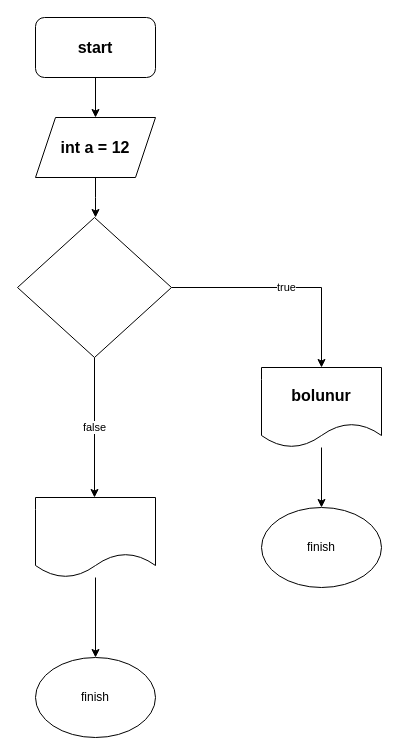
Image size: 399x755. Some labels were removed from this diagram. The shapes that lost their labels are listed below. From the top down, each one's centre as x and y in pixels, then its label:
At (x=94, y=287): "a%3==0 && a%10 == 0".
At (x=95, y=537): "bolunmur".
